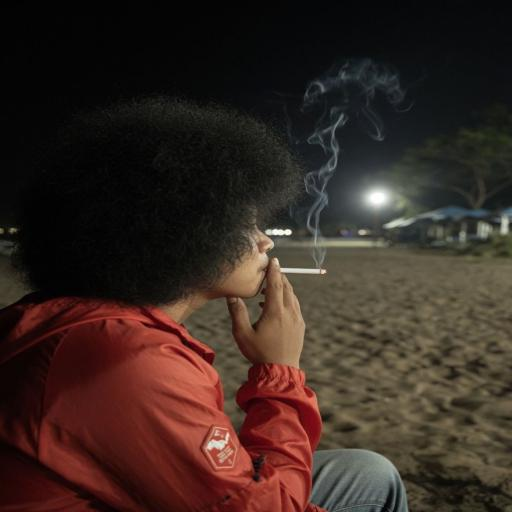terdeteksi merokok: (221, 191, 336, 311)
